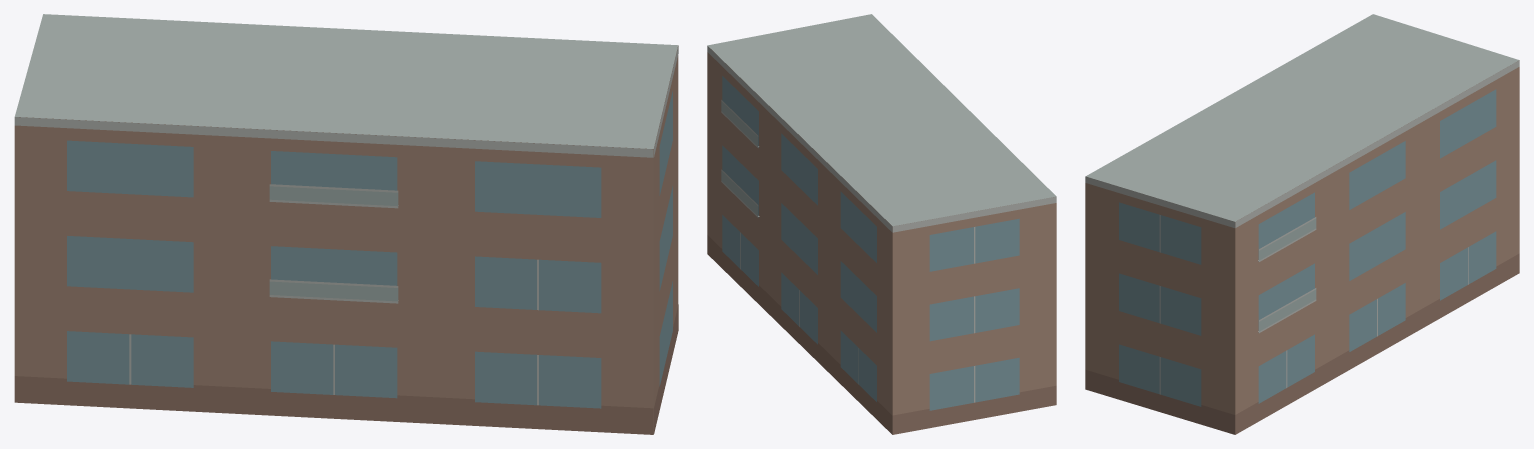
The model's file is survey-upis-32713521.glb.
3 renders of one model, left to right at view 1: azimuth 30°, elevation 25°; view 2: azimuth 150°, elevation 25°; view 3: azimuth 270°, elevation 25°, orthographic. The views are drawn at different scales.
Visible parts, largest first — view 1: survey-upis-32713521.tmp; view 2: survey-upis-32713521.tmp; view 3: survey-upis-32713521.tmp.
Boxes of the visible parts, <box> form: survey-upis-32713521.tmp: <box>14,14,678,434</box>; survey-upis-32713521.tmp: <box>707,14,1056,434</box>; survey-upis-32713521.tmp: <box>1085,14,1519,434</box>.
Bounding box in the file's own units: 16.74 × 8 × 14.78.
